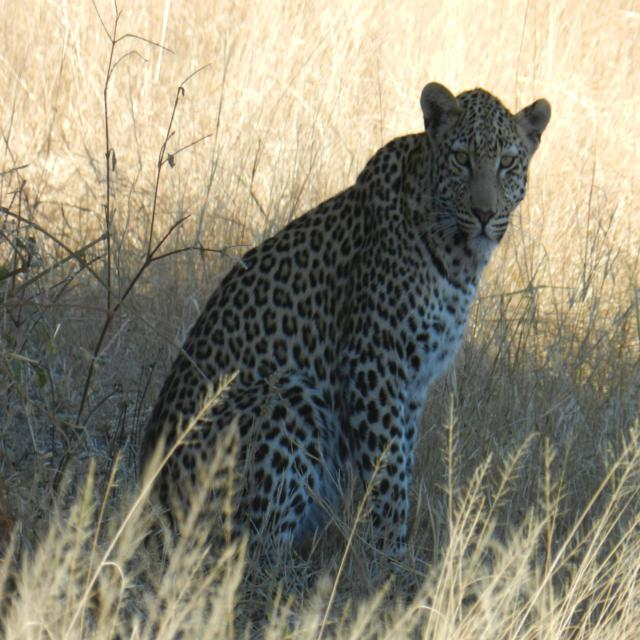Leopard: (156, 67, 549, 600)
